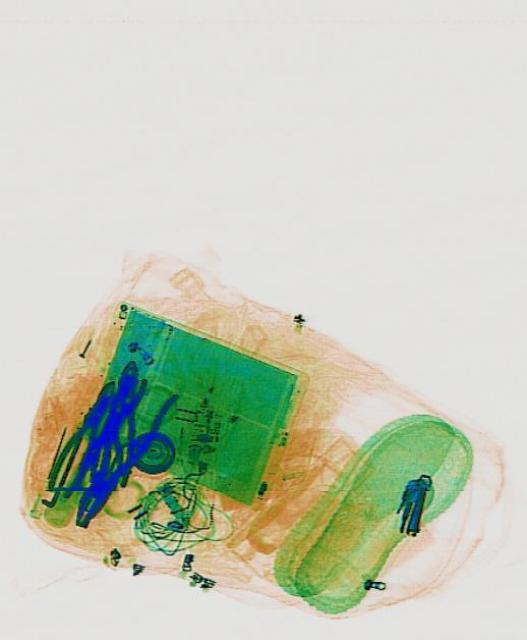Pliers: (57, 368, 177, 540), (83, 354, 153, 488)
